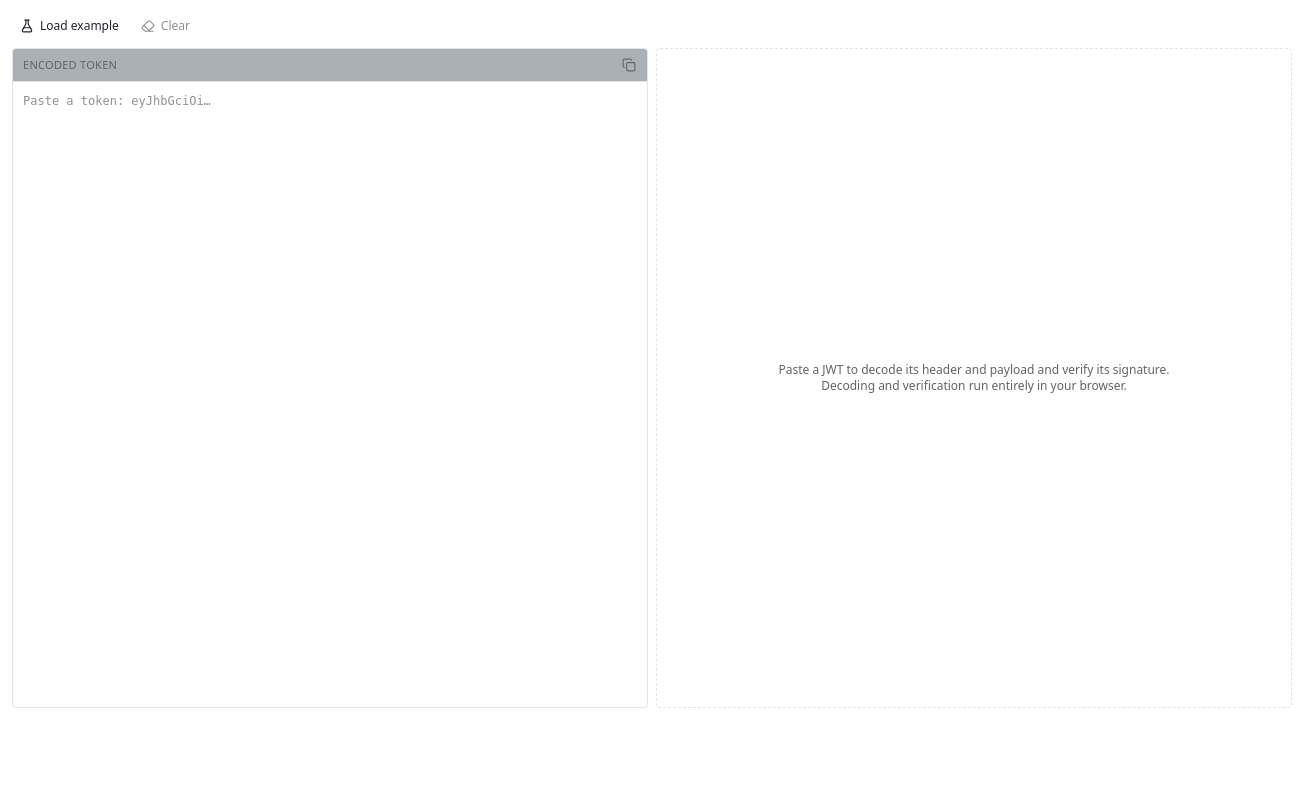
JwtDecoder › decodes and verifies the example token
The width and height of the screenshot is (1304, 812).
Click the button "Load example" at (69, 26), box [12,12,127,40]
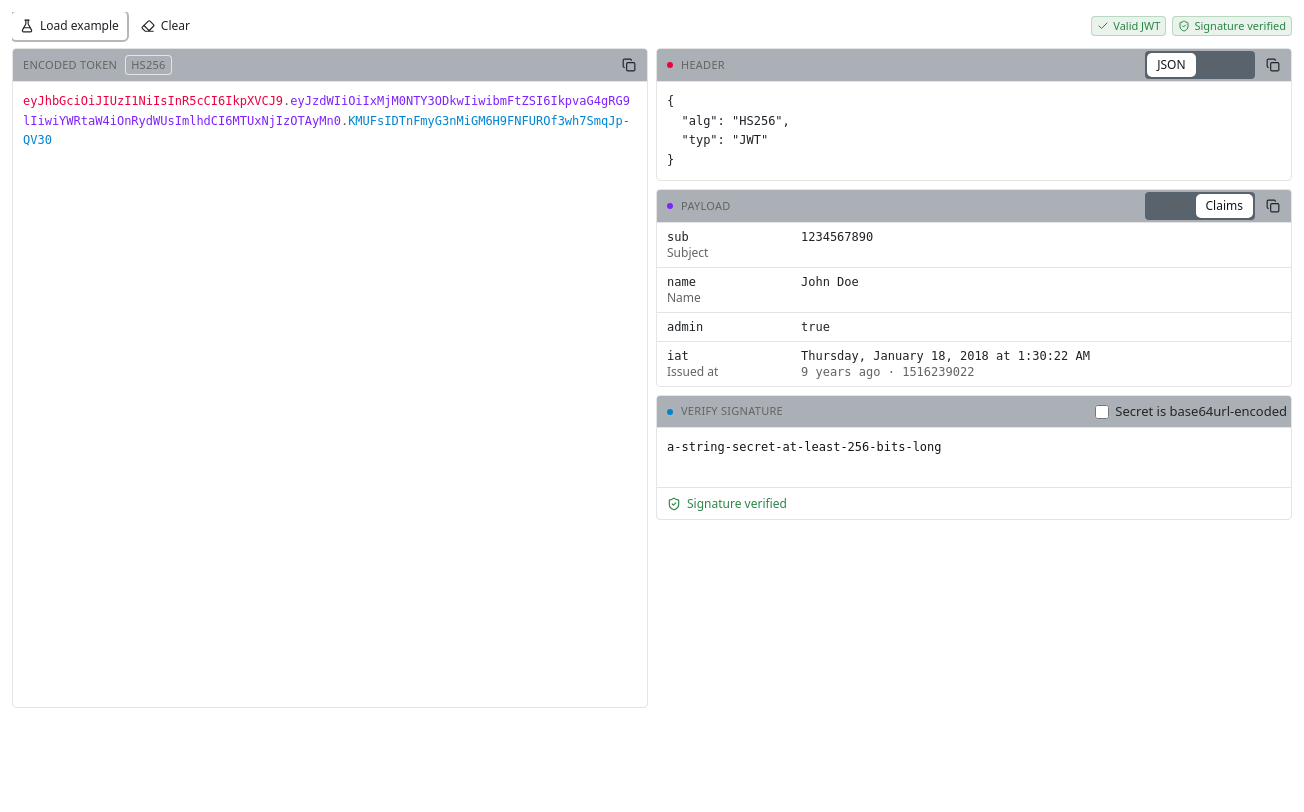
Check: the text "Valid JWT" is shown, box [1091,16,1166,36]
Check: the text "John Doe" is shown, box [801,268,1291,312]
